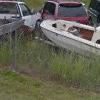Boat: (38, 15, 98, 59)
